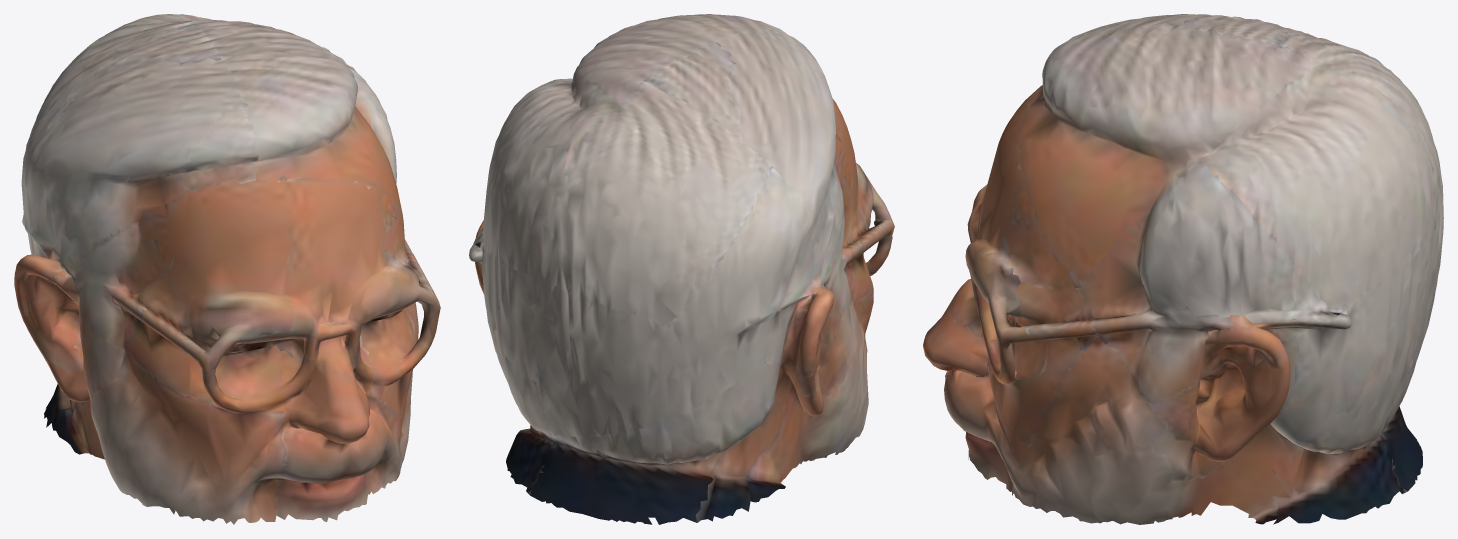
File: modi.glb
The picture shows the model from 3 angles, left to right: view 1: azimuth 30°, elevation 25°; view 2: azimuth 150°, elevation 25°; view 3: azimuth 270°, elevation 25°; orthographic projection. The views are drawn at different scales.
Parts seen in each view (by area): view 1: modi; view 2: modi; view 3: modi.
Part boxes in pixels (left/top/right/bottom): modi: left=14, top=14, right=440, bottom=524; modi: left=469, top=14, right=894, bottom=524; modi: left=923, top=14, right=1443, bottom=524.
Bounding box in the file's own units: 0.2245 × 0.2432 × 0.2699.
Materials: 1 (1 with a texture image).
